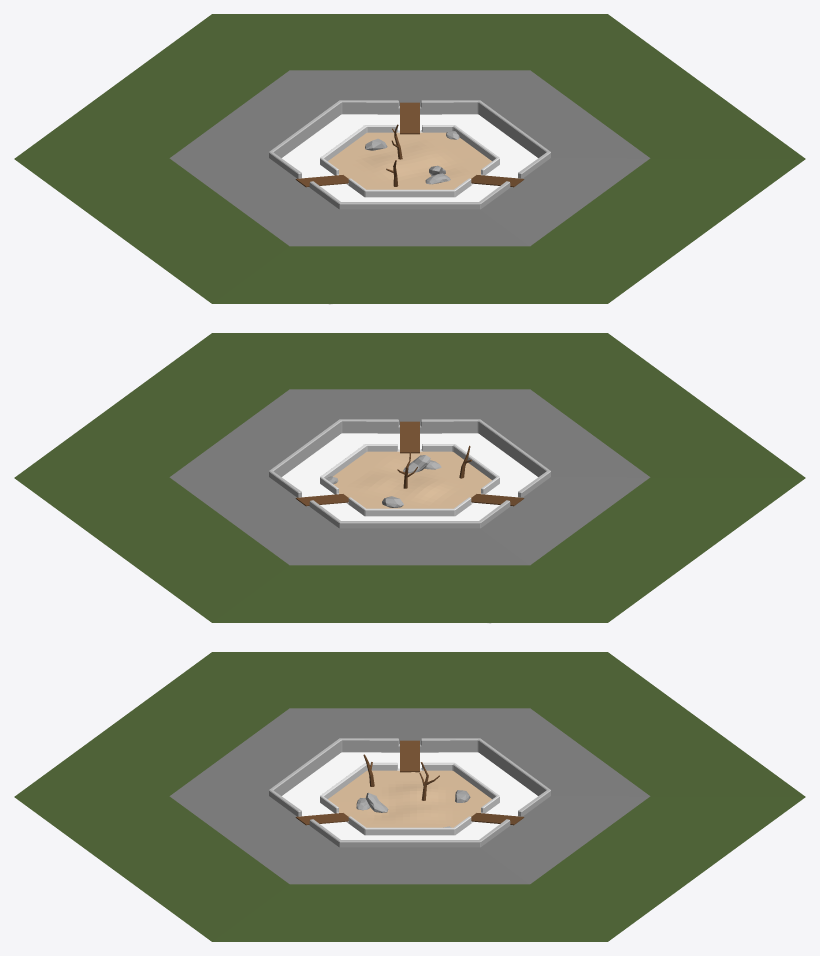
Rendered from Enclosure.glb.
3 views of the same model, one above another, from view 1: azimuth 30°, elevation 25°; view 2: azimuth 150°, elevation 25°; view 3: azimuth 270°, elevation 25° (orthographic).
Visible parts, largest first — view 1: Enclosure.002, Water, Sand-col, Enclosure.001, Enclosure-col, Plank.002Plank-col; view 2: Enclosure.002, Water, Sand-col, Enclosure.001, Enclosure-col, PlankPlank-col; view 3: Enclosure.002, Water, Sand-col, Enclosure.001, Enclosure-col, Plank.001Plank-col.
Part boxes in pixels (x1,y1,x2,y2): Enclosure.002: (14,14,805,303); Water: (282,114,537,201); Sand-col: (328,132,491,189); Enclosure.001: (269,100,550,209); Enclosure-col: (320,125,499,197); Plank.002Plank-col: (400,102,419,134); Enclosure.002: (14,333,805,622); Water: (282,433,537,520); Sand-col: (333,451,491,508); Enclosure.001: (269,419,550,528); Enclosure-col: (320,444,499,516); PlankPlank-col: (400,421,419,453); Enclosure.002: (14,652,805,941); Water: (282,752,537,839); Sand-col: (328,770,491,827); Enclosure.001: (269,738,550,847); Enclosure-col: (320,762,499,835); Plank.001Plank-col: (400,740,419,772).
Size of what is drawn, in the model's own units: 93.5 by 7.95 by 108.
